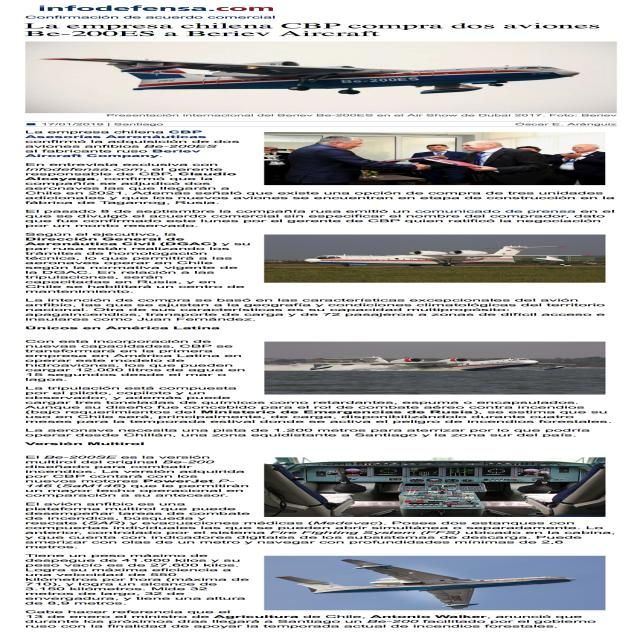MIL_Plane: (273, 559, 578, 608), (317, 245, 584, 267), (49, 71, 567, 82), (276, 100, 579, 115)
